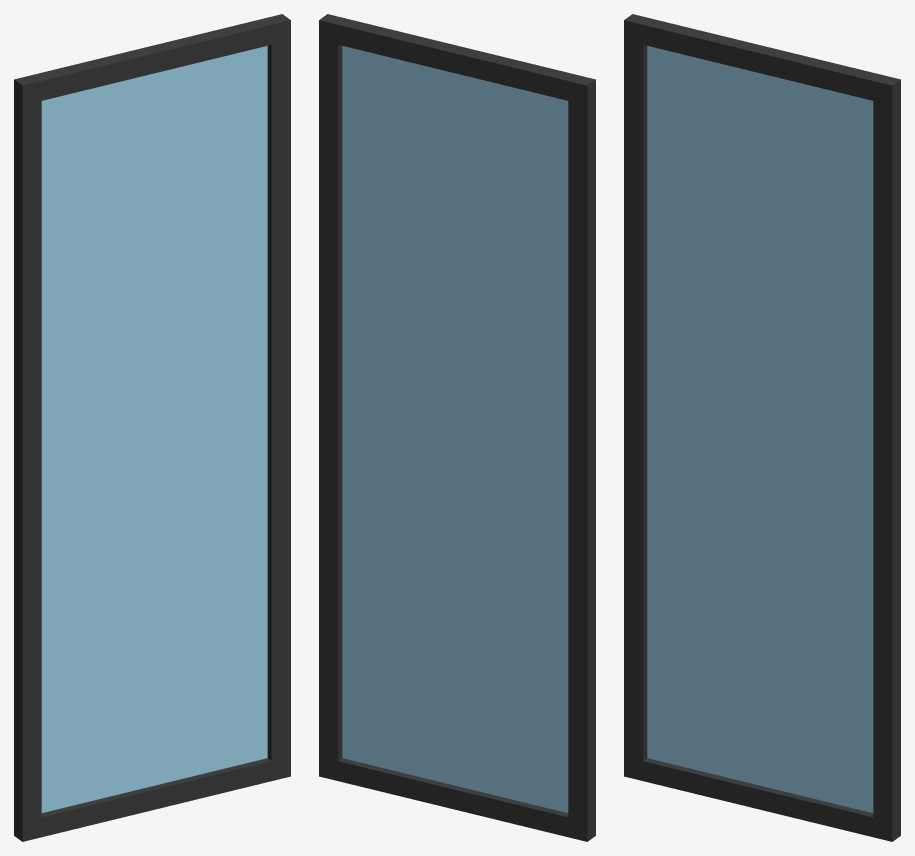
File: rightslidedoor.fbx
The picture shows the model from 3 angles, left to right: view 1: azimuth 30°, elevation 25°; view 2: azimuth 150°, elevation 25°; view 3: azimuth 330°, elevation 25°; orthographic projection.
Visible parts, largest first — view 1: Plane.011; view 2: Plane.011; view 3: Plane.011.
Boxes of the visible parts, box(x1,y1,x2,y2) form: Plane.011: box(14, 14, 290, 841); Plane.011: box(319, 14, 595, 841); Plane.011: box(624, 14, 900, 841).
Size of the model in its own units: 1.88 by 5.05 by 0.1021.
